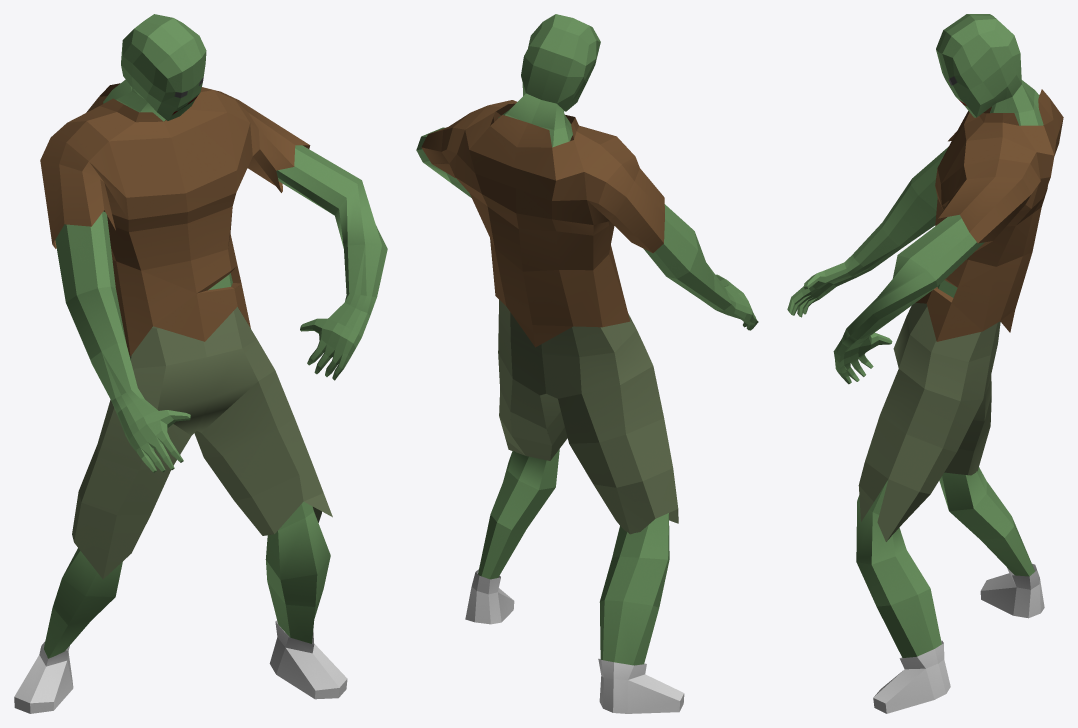
File: ZombieDead(3).obj
The picture shows the model from 3 angles, left to right: view 1: azimuth 30°, elevation 25°; view 2: azimuth 150°, elevation 25°; view 3: azimuth 270°, elevation 25°; orthographic projection. The views are drawn at different scales.
Parts seen in each view (by area): view 1: Object001; view 2: Object001; view 3: Object001.
Boxes of the visible parts, x1=… form: Object001: x1=14, y1=14, x2=387, y2=713; Object001: x1=416, y1=14, x2=758, y2=713; Object001: x1=787, y1=14, x2=1063, y2=713.
Size of the model in its own units: 27.52 by 57.41 by 22.62.
